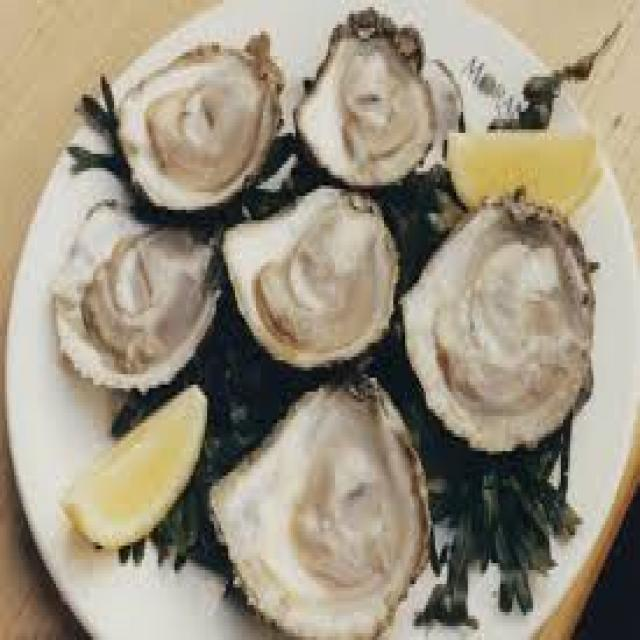Lemon: (60, 385, 207, 548), (448, 124, 602, 212)
Oysters: (212, 382, 432, 630), (411, 205, 595, 445), (222, 182, 400, 366), (112, 30, 277, 208), (295, 15, 449, 186), (59, 223, 217, 376)
